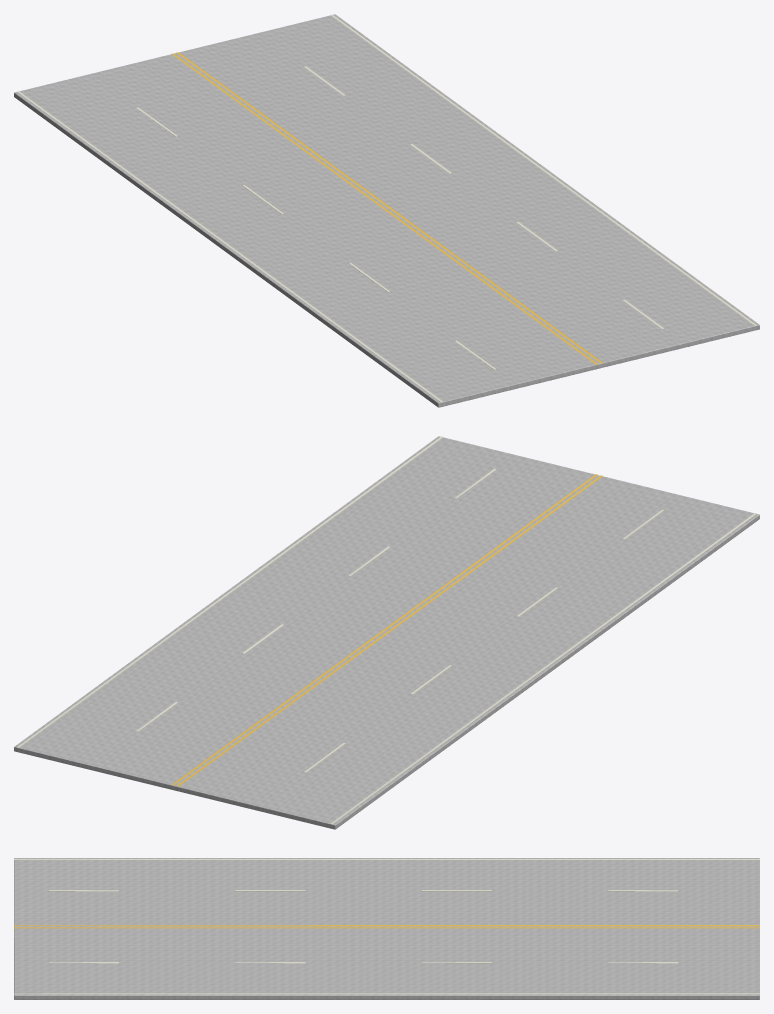
Rendered from road_lod1.glb.
3 renders of one model, top to bottom at view 1: azimuth 30°, elevation 25°; view 2: azimuth 150°, elevation 25°; view 3: azimuth 270°, elevation 25°, orthographic. The views are drawn at different scales.
Parts seen in each view (by area): view 1: road_body.001; view 2: road_body.001; view 3: road_body.001.
Boxes of the visible parts, left/top/right/bottom form: road_body.001: left=14, top=14, right=759, bottom=407; road_body.001: left=14, top=436, right=759, bottom=829; road_body.001: left=14, top=858, right=759, bottom=999.
Size of the model in its own units: 13.99 by 0.2136 by 32.
3 materials, 1 textured.
